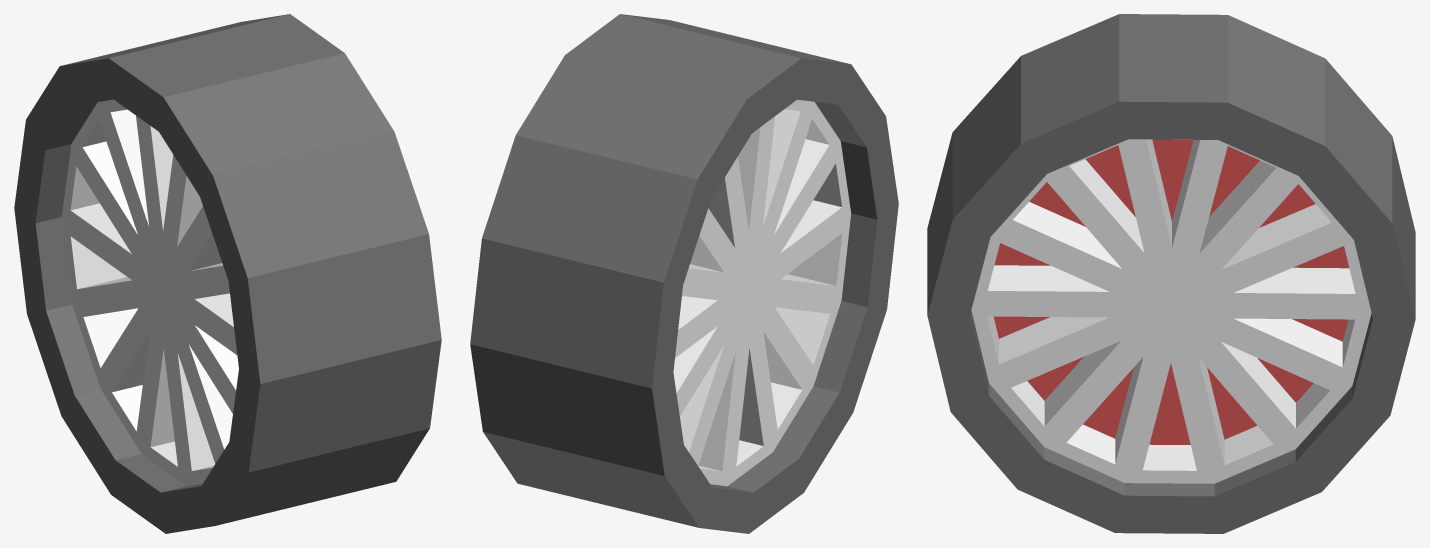
Rendered from roda.fbx.
3 views of the same model, side by side, from view 1: azimuth 30°, elevation 25°; view 2: azimuth 150°, elevation 25°; view 3: azimuth 270°, elevation 25° (orthographic).
Visible parts, largest first — view 1: roda; view 2: roda; view 3: roda.
Boxes of the visible parts, left/top/right/bottom form: roda: left=14, top=14, right=441, bottom=533; roda: left=470, top=14, right=898, bottom=533; roda: left=927, top=14, right=1415, bottom=533.
Bounding box in the file's own units: 13.12 × 30.13 × 30.84.
